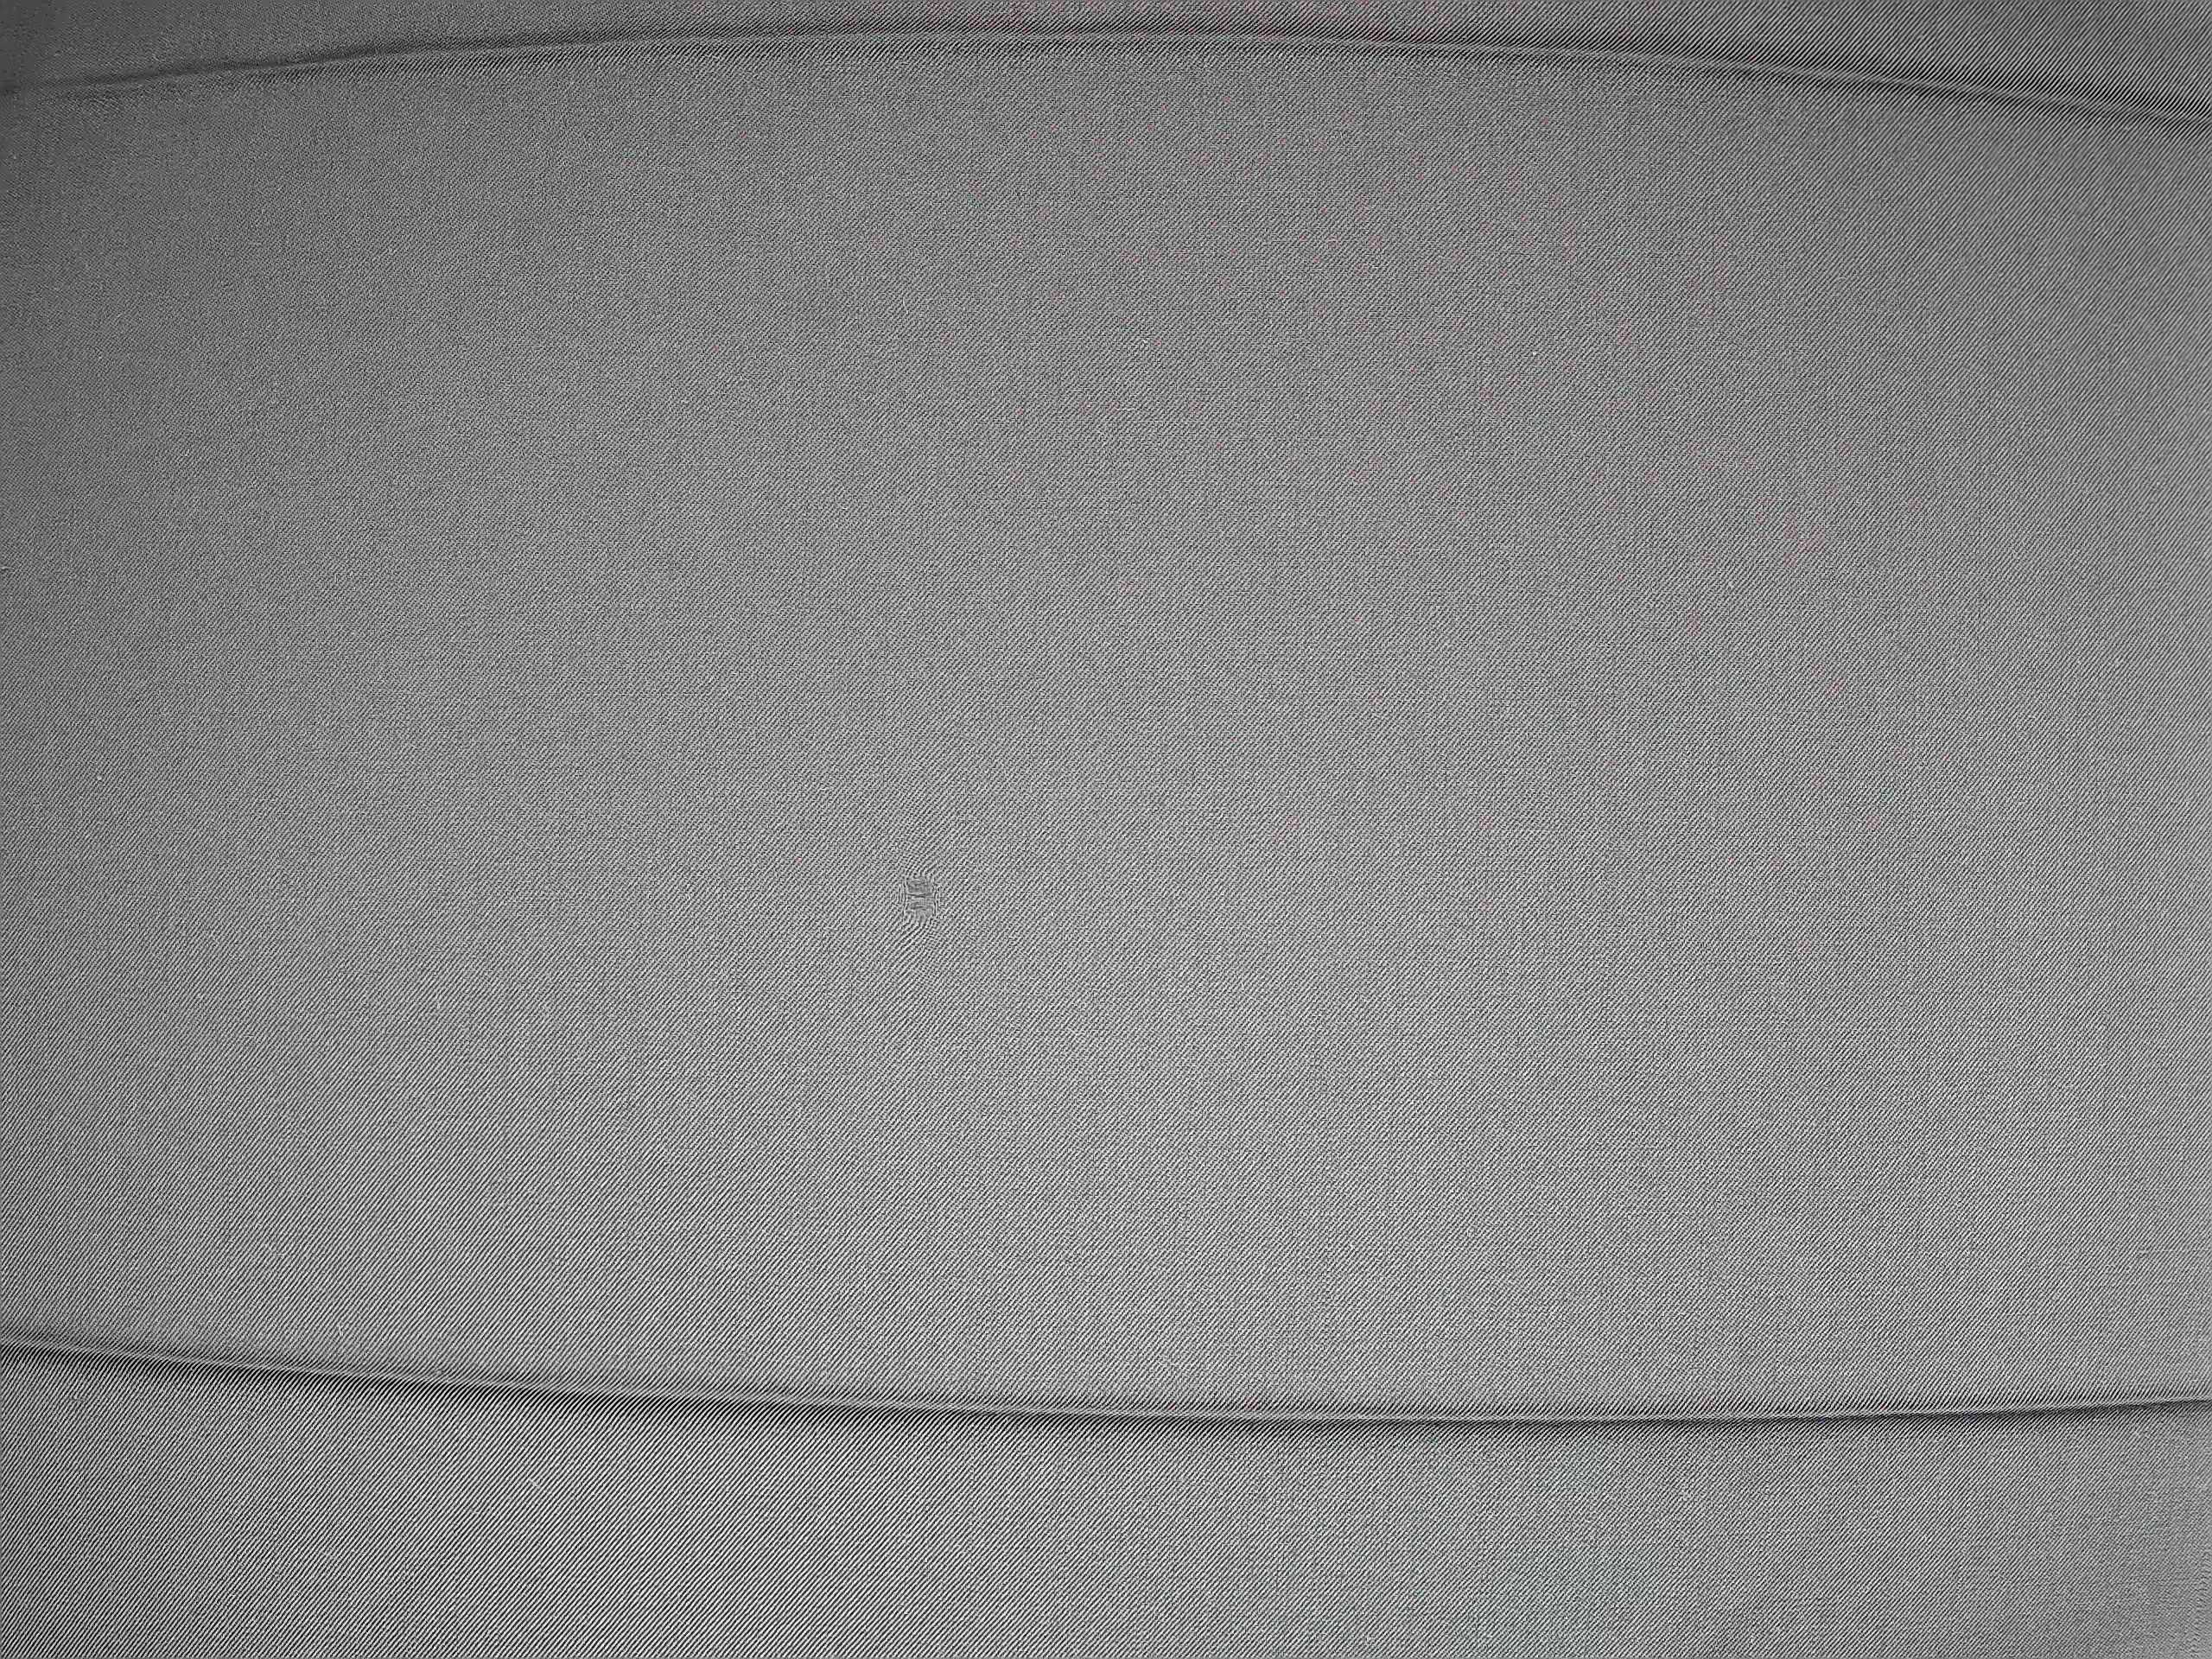brushed-hole: (869, 845, 965, 951)
